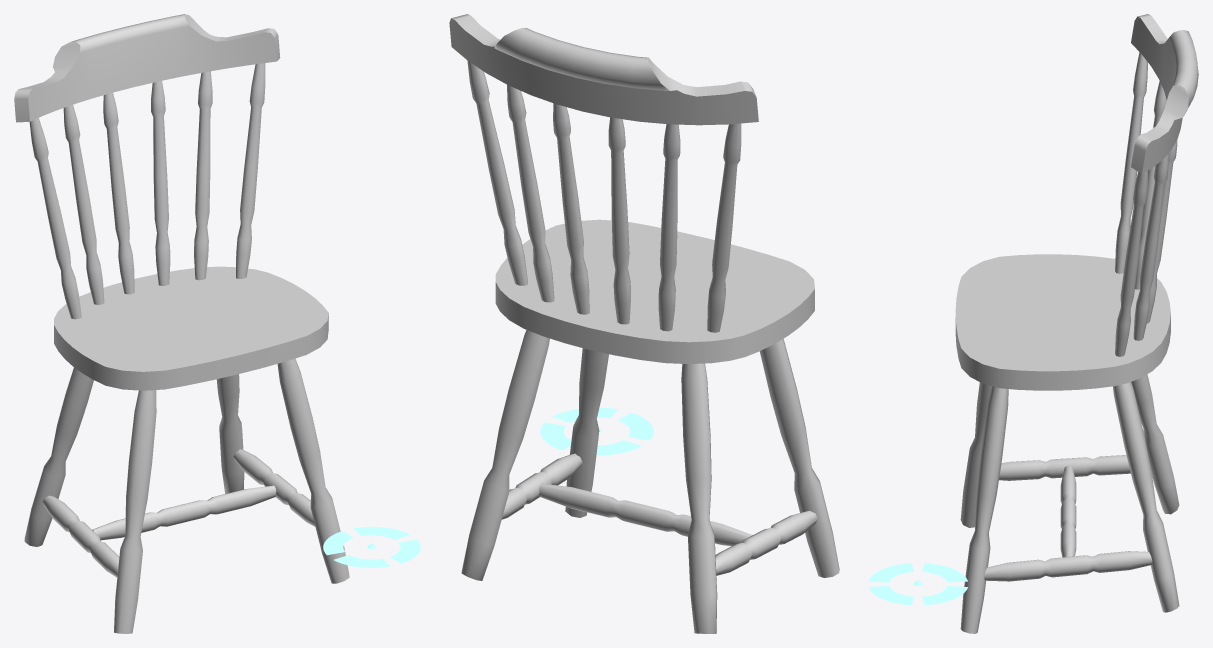
The model's file is rustic-chairrr.gltf.
3 views of the same model, side by side, from view 1: azimuth 30°, elevation 25°; view 2: azimuth 150°, elevation 25°; view 3: azimuth 270°, elevation 25° (orthographic). The views are drawn at different scales.
Parts seen in each view (by area): view 1: Mesh_0, Torus; view 2: Mesh_0, Torus; view 3: Mesh_0, Torus.
Part boxes in pixels (bbox=[...]): Mesh_0: bbox=[14, 14, 349, 633]; Torus: bbox=[323, 526, 420, 567]; Mesh_0: bbox=[449, 14, 839, 633]; Torus: bbox=[540, 407, 653, 455]; Mesh_0: bbox=[955, 14, 1198, 633]; Torus: bbox=[868, 563, 967, 605].
Size of the model in its own units: 0.9653 by 1.61 by 0.9251.
